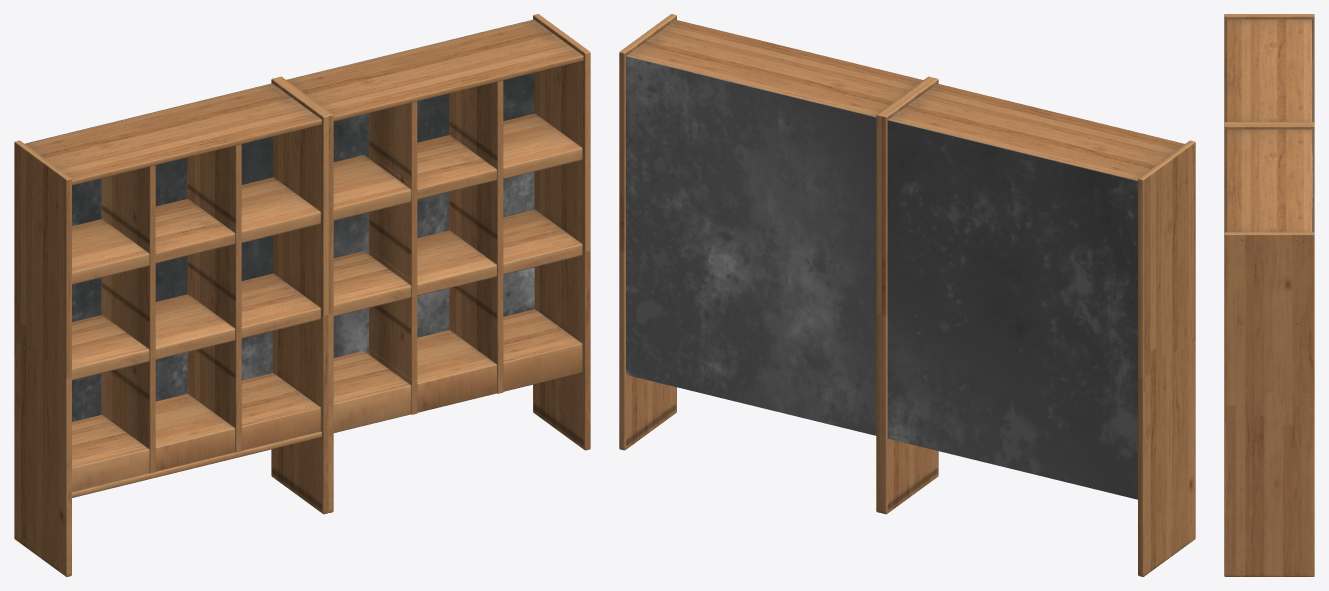
The picture shows the model from 3 angles, left to right: view 1: azimuth 30°, elevation 25°; view 2: azimuth 150°, elevation 25°; view 3: azimuth 270°, elevation 25°; orthographic projection. The views are drawn at different scales.
Parts seen in each view (by area): view 1: wooden_display_shelves_01.002, wooden_display_shelves_01, Cube.001, Cube.003; view 2: Cube.001, Cube.003, wooden_display_shelves_01.002, wooden_display_shelves_01; view 3: wooden_display_shelves_01, wooden_display_shelves_01.002.
Part boxes in pixels (bbox=[...]): wooden_display_shelves_01.002: bbox=[14, 78, 328, 576]; wooden_display_shelves_01: bbox=[277, 14, 590, 512]; Cube.001: bbox=[286, 19, 534, 357]; Cube.003: bbox=[25, 83, 272, 421]; Cube.001: bbox=[626, 56, 876, 435]; Cube.003: bbox=[887, 120, 1137, 499]; wooden_display_shelves_01.002: bbox=[881, 78, 1195, 576]; wooden_display_shelves_01: bbox=[619, 14, 932, 512]; wooden_display_shelves_01: bbox=[1224, 124, 1314, 576]; wooden_display_shelves_01.002: bbox=[1224, 14, 1314, 124].
Bounding box in the file's own units: 215 × 156 × 37.15.
2 materials, 2 textured.
